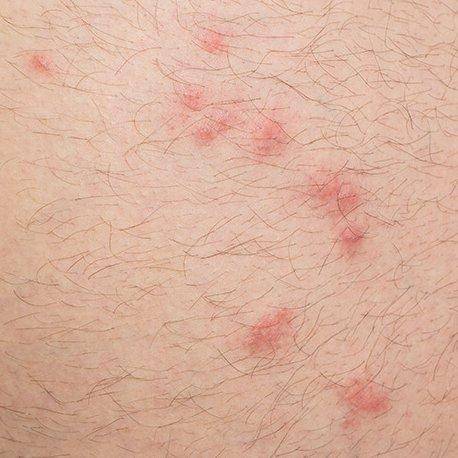Fleas: (295, 160, 389, 260), (238, 300, 303, 364), (329, 367, 393, 426), (22, 46, 67, 90), (189, 106, 237, 147), (183, 25, 231, 58), (250, 116, 285, 160), (175, 82, 206, 113)
